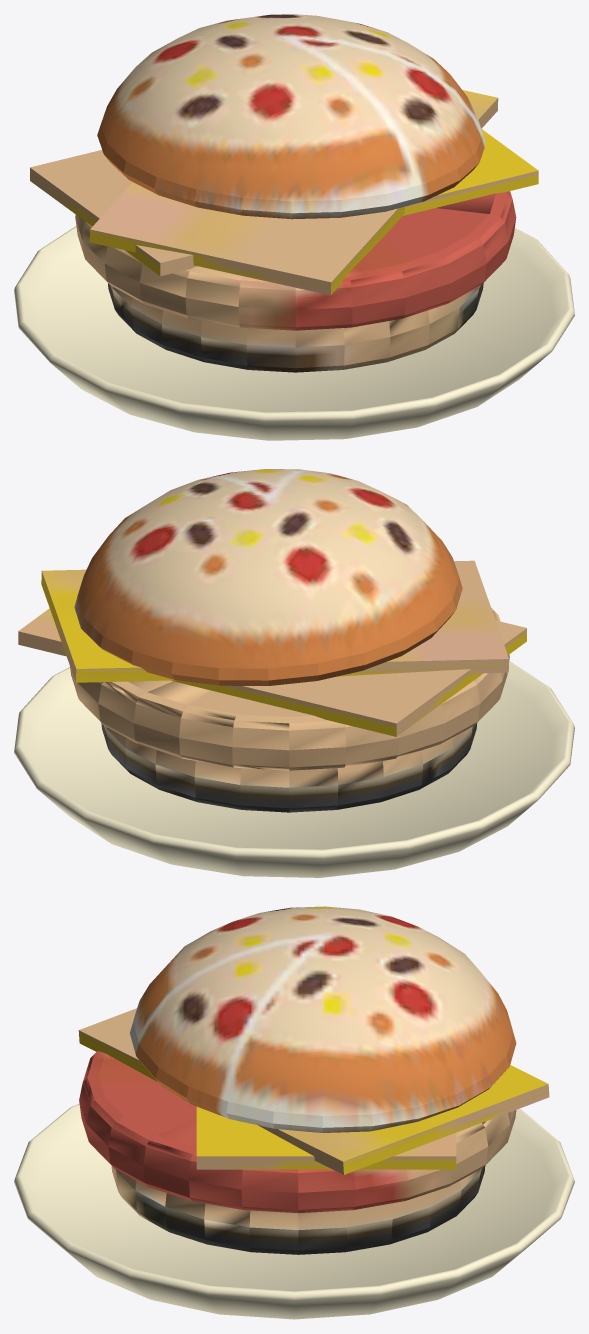
File: hanbao(1).FBX
3 renders of one model, top to bottom at view 1: azimuth 30°, elevation 25°; view 2: azimuth 150°, elevation 25°; view 3: azimuth 270°, elevation 25°, orthographic.
Parts seen in each view (by area): view 1: hanbao; view 2: hanbao; view 3: hanbao.
Boxes of the visible parts, x1,y1,x2,y2 form: hanbao: (14,14,574,440); hanbao: (14,469,574,877); hanbao: (14,906,574,1319).
Bounding box in the file's own units: 37.17 × 20.77 × 37.17.
